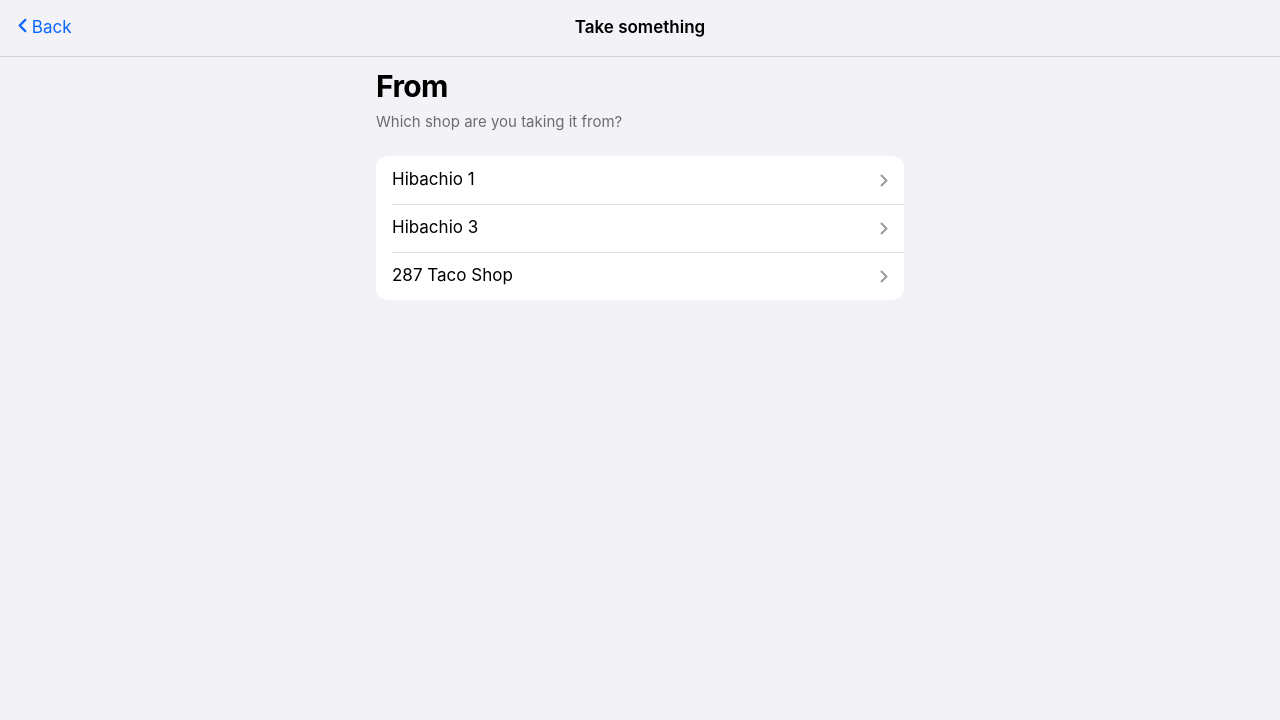
the take flow, end to end › records 2 sleeves of 32 oz cups from 287 Taco Shop in four taps
Expected: the button "Hibachio 2" is not shown
Step 1. Click the button "287 Taco Shop" → (452, 275), box [376, 252, 904, 300]
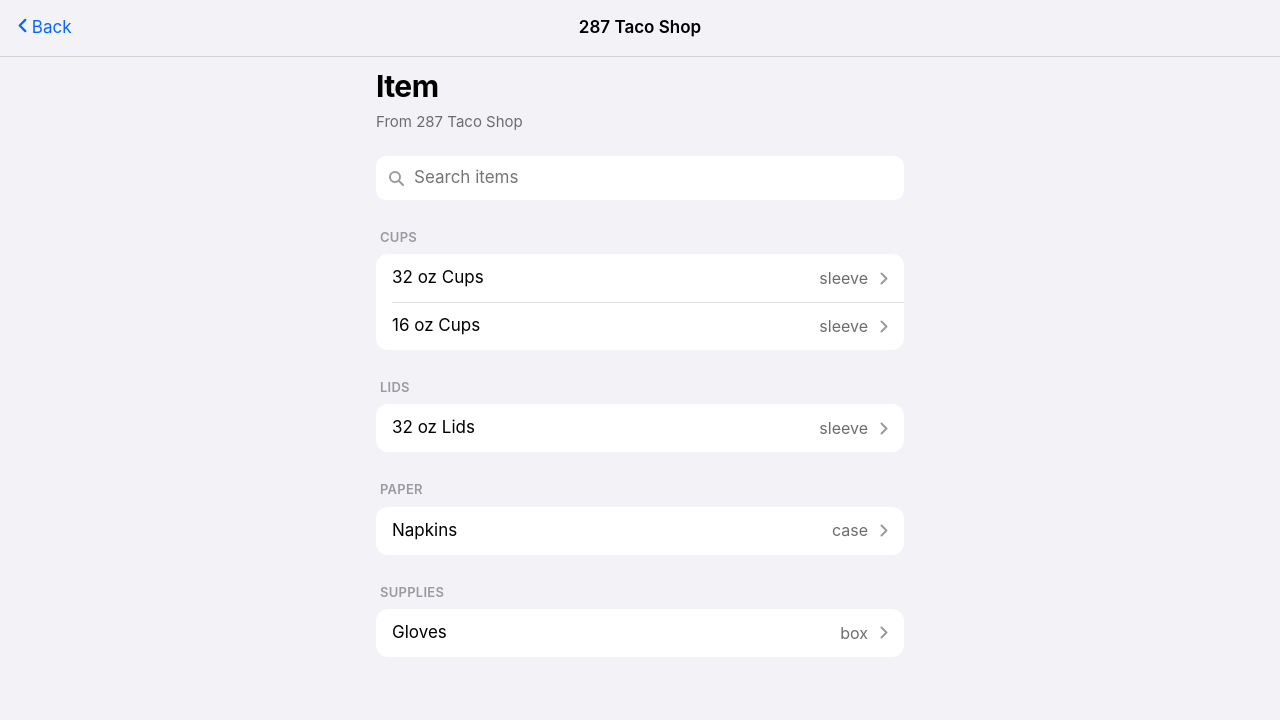
Note: Step two: which item?
Step 2. Click the button "32 oz Cups sleeve" → (438, 277), box [376, 254, 904, 302]
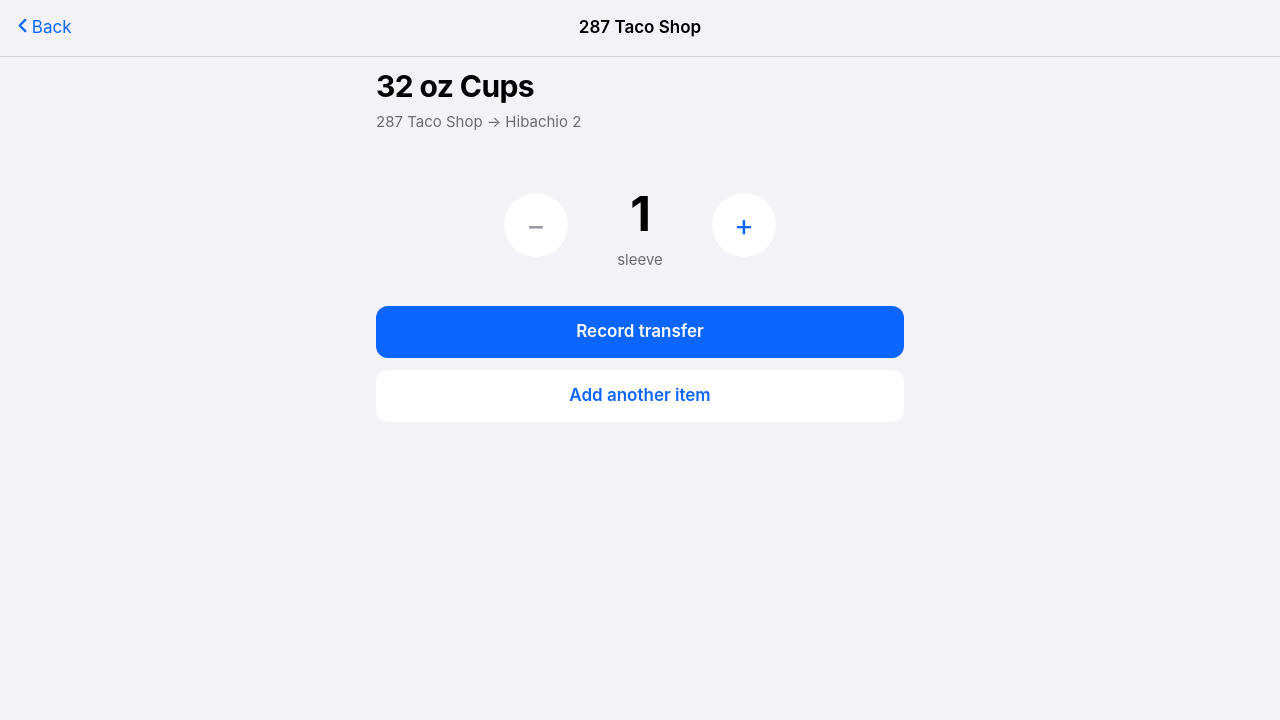
Expected: the text "1" is shown, [630, 184, 650, 243]
Step 3. Click the button named "increase quantity" → (744, 225), box [712, 193, 776, 257]
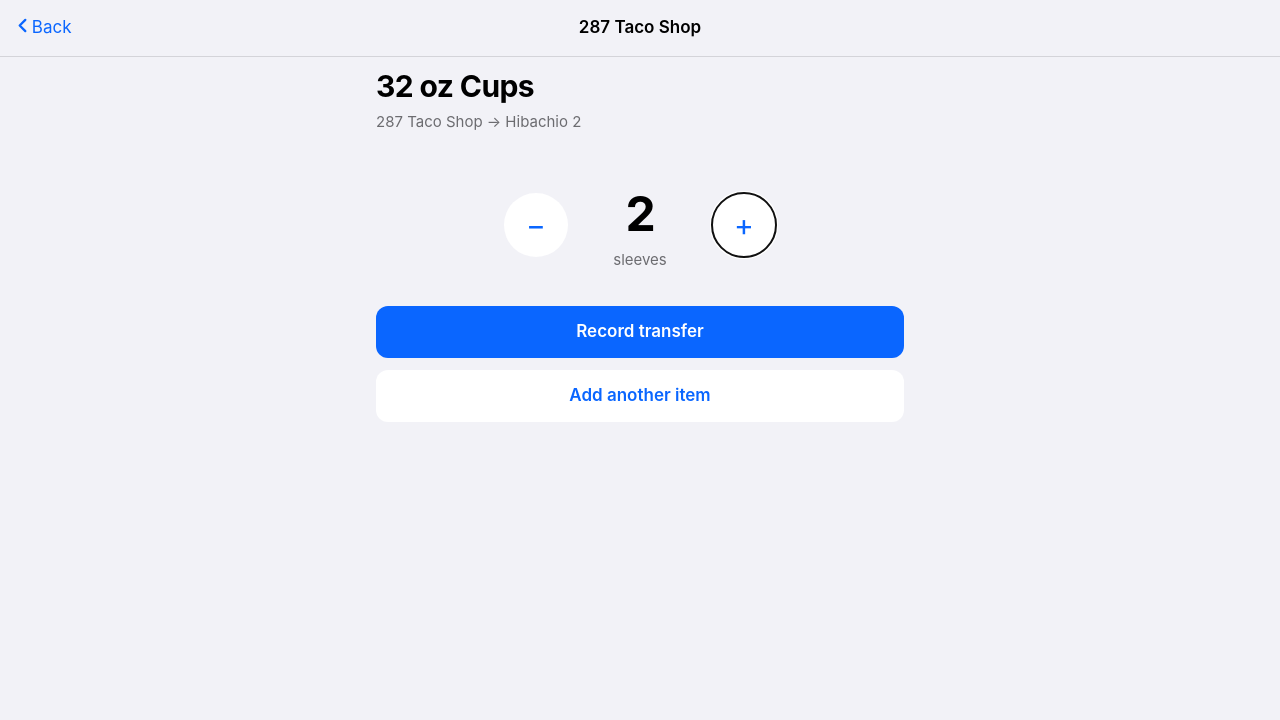
Now the text "2" is shown, box [626, 184, 654, 243]
Note: Step four: record it.
Step 4. Click the button "Record transfer" → (640, 332), box [376, 306, 904, 358]
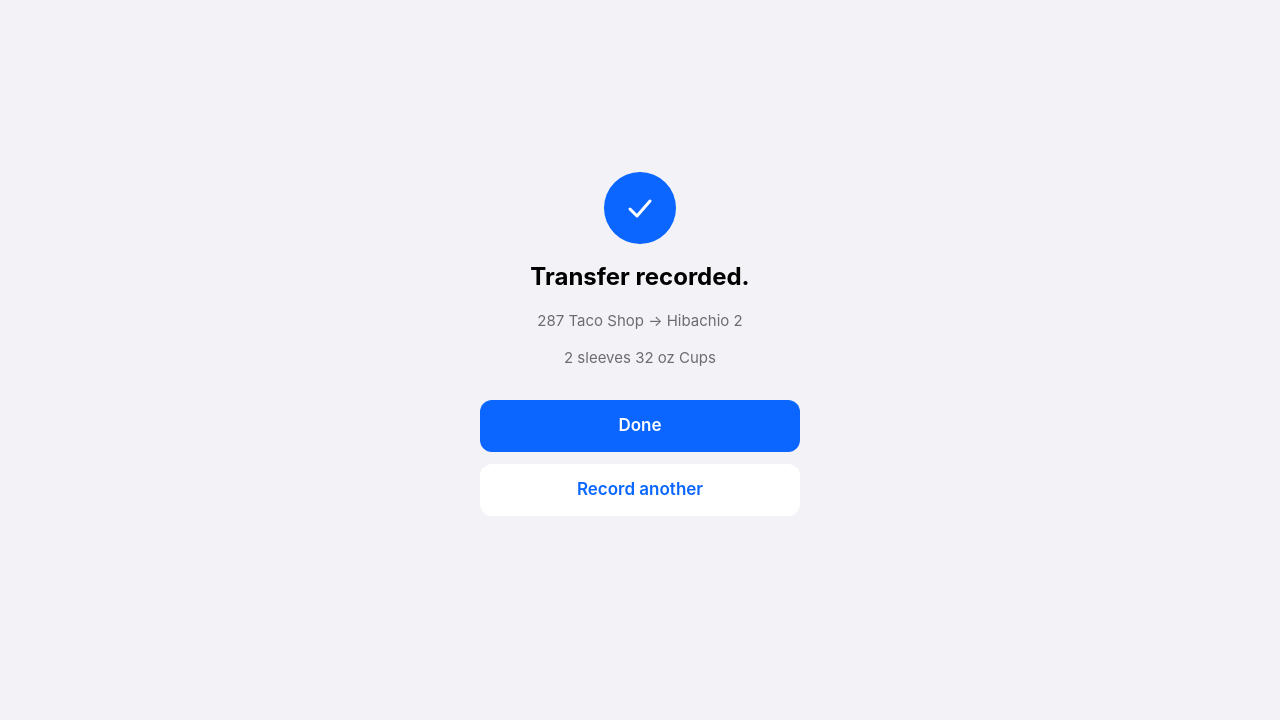
Now the text "287 Taco Shop → Hibachio 2" is shown, box [537, 310, 743, 331]
Now the heading "Transfer recorded." is shown, box [530, 260, 750, 294]
